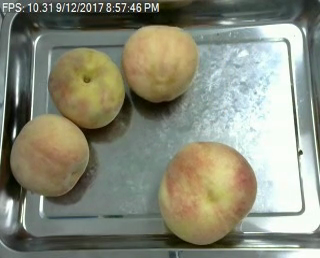Peach: (158, 140, 258, 247), (10, 113, 89, 197), (48, 46, 125, 129), (123, 24, 199, 102)
